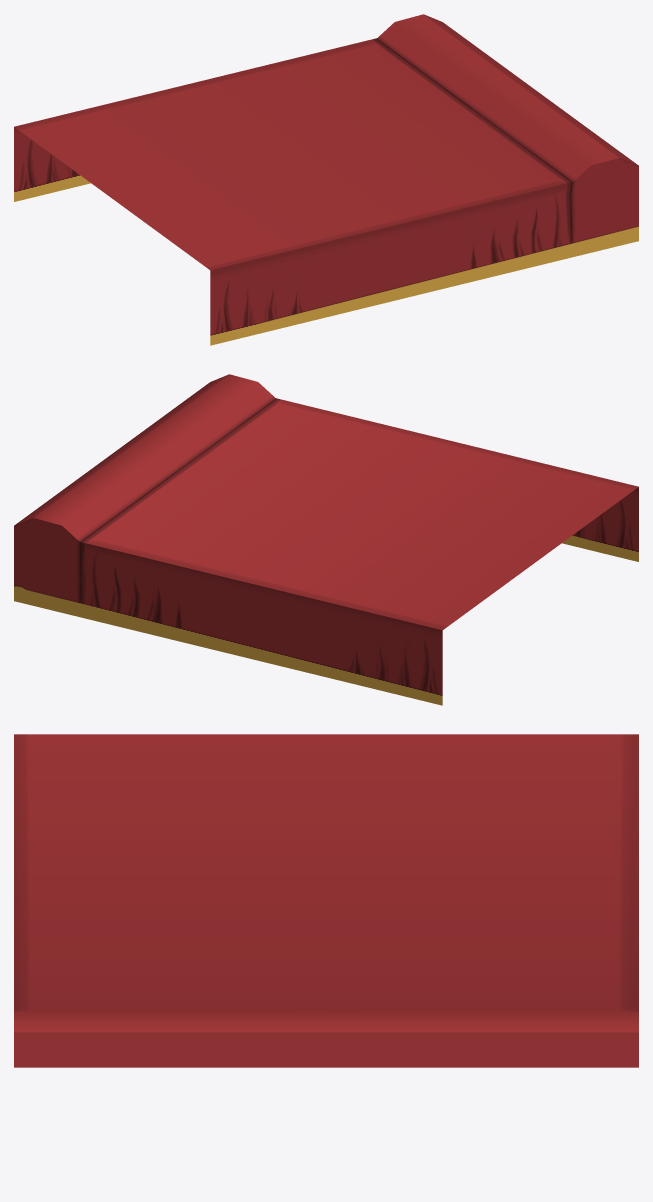
Rendered from BedSheets_Mod.FBX.
3 renders of one model, top to bottom at view 1: azimuth 30°, elevation 25°; view 2: azimuth 150°, elevation 25°; view 3: azimuth 270°, elevation 25°, orthographic. The views are drawn at different scales.
Parts seen in each view (by area): view 1: BedSheets; view 2: BedSheets; view 3: BedSheets.
Part boxes in pixels (bbox=[...]): BedSheets: bbox=[14, 14, 638, 345]; BedSheets: bbox=[14, 374, 638, 705]; BedSheets: bbox=[14, 734, 638, 1067].
Size of the model in its own units: 2 by 0.393 by 1.59.
1 material, 1 textured.
